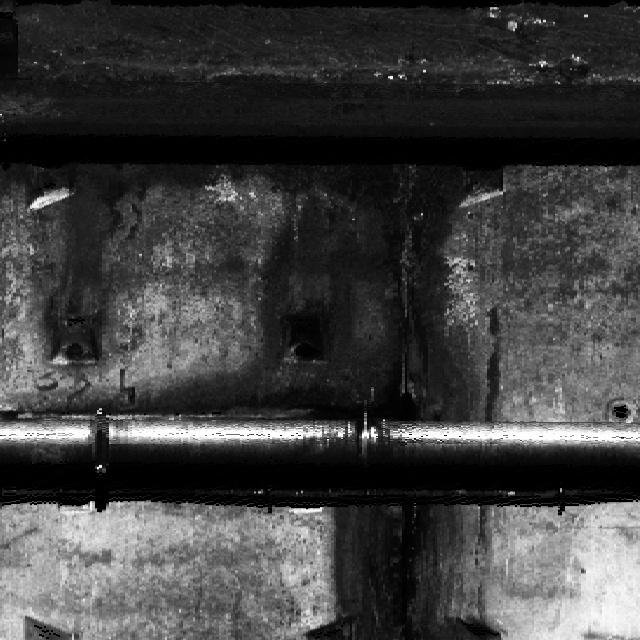leakage: (154, 164, 533, 423), (299, 502, 507, 639), (15, 162, 142, 362)
